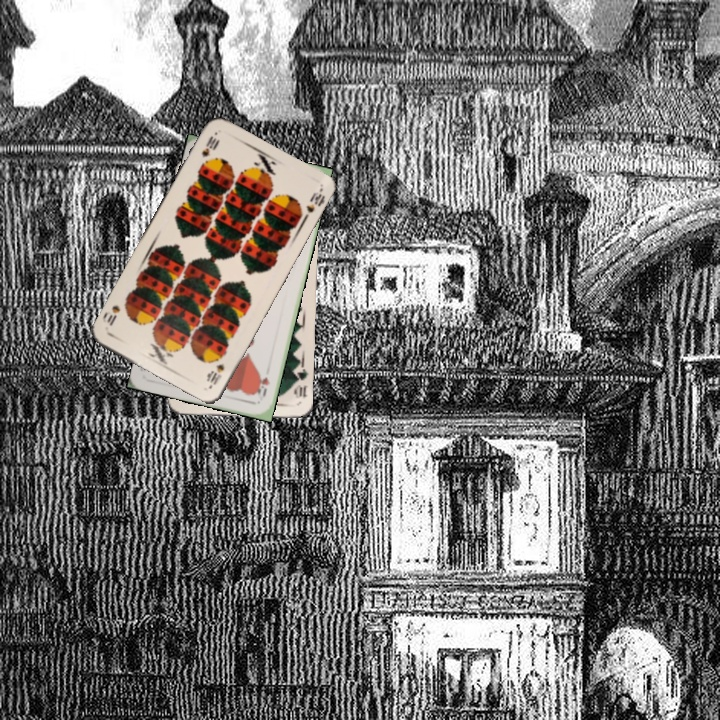G10: (290, 363, 311, 401)
HO: (253, 373, 272, 400)
S10: (203, 359, 227, 389), (197, 131, 220, 160)
